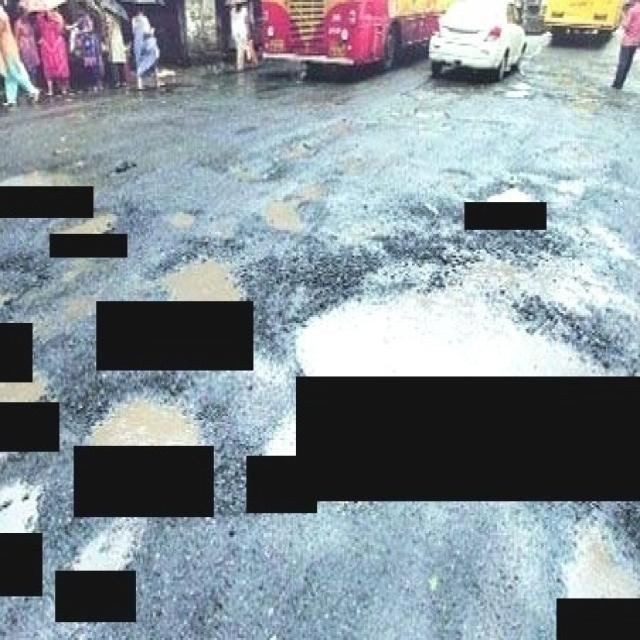road-pothole: (289, 252, 635, 368)
